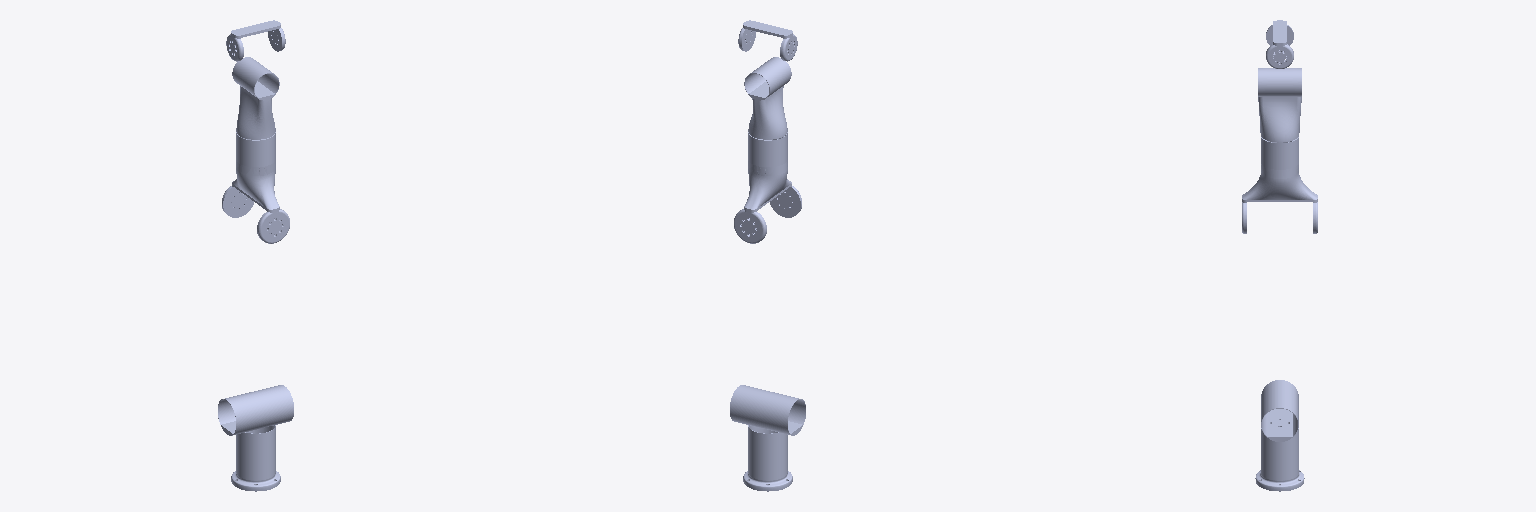
robot.urdf — dossarm_description:
<?xml version="1.0" ?>
<robot name="dossarm_description">
    <link name="world" />
    <joint name="odom_joint" type="fixed">
        <origin xyz="0 0 0" rpy="0 0 0" />
        <parent link="world" />
        <child link="base_link" />
    </joint>
    <link name="base_link">
        
<inertial>
            <mass value="0.1" />
            <origin rpy="1.5707 0 0" xyz="0 0 0" />
            <inertia ixx="0.03" ixy="0.0" ixz="0.0" iyy="0.03" iyz="0.0" izz="0.03" />
        </inertial>

        <collision>
            <origin rpy="1.5707 0 0" xyz="0 0 0" />
            <geometry>
                <mesh filename="package://dossarm_description/meshes/Motor_1_Case.stl" scale="0.001 0.001 0.001" />
                /&gt;
            </geometry>
        </collision>
        <visual>
            <origin rpy="1.5707 0 0" xyz="0 0 0" />
            <geometry>
                <mesh filename="package://dossarm_description/meshes/Motor_1_Case.stl" scale="0.001 0.001 0.001" />
            </geometry>
            <material name="">
                <color rgba="0.79216 0.81961 0.93333 1" />
            </material>
        </visual>
    </link>
    <link name="Motor_1">
        
<inertial>
            <mass value="0.1" />
            <origin rpy="1.5708 0 0" xyz="0 0 0" />
            <inertia ixx="0.03" ixy="0.0" ixz="0.0" iyy="0.03" iyz="0.0" izz="0.03" />
        </inertial>

        <collision>
            <origin rpy="1.5708 0 0" xyz="0 0 0" />
            <geometry>
                <mesh filename="package://dossarm_description/meshes/PH54_200.stl" scale="0.001 0.001 0.001" />
                /&gt;
            </geometry>
        </collision>
        <visual>
            <origin rpy="1.5708 0 0" xyz="0 0 0" />
            <geometry>
                <mesh filename="package://dossarm_description/meshes/PH54_200.stl" scale="0.001 0.001 0.001" />
            </geometry>
            <material name="">
                <color rgba="0.79216 0.81961 0.93333 1" />
            </material>
        </visual>
    </link>
    <joint name="dummyjoint_base_to_motor_1" type="fixed">
        <origin rpy="0 0 0" xyz="0 0 0.064" />
        <parent link="base_link" />
        <child link="Motor_1" />
    </joint>
    <link name="Link_1">
        
<inertial>
            <mass value="0.1" />
            <origin rpy="1.5708 0 0" xyz="0 0 0" />
            <inertia ixx="0.03" ixy="0.0" ixz="0.0" iyy="0.03" iyz="0.0" izz="0.03" />
        </inertial>

        <collision>
            <origin rpy="1.5708 0 0" xyz="0 0 0" />
            <geometry>
                <mesh filename="package://dossarm_description/meshes/Motor_2_Case.stl" scale="0.001 0.001 0.001" />
                /&gt;
            </geometry>
        </collision>
        <visual>
            <origin rpy="1.5708 0 0" xyz="0 0 0" />
            <geometry>
                <mesh filename="package://dossarm_description/meshes/Motor_2_Case.stl" scale="0.001 0.001 0.001" />
            </geometry>
            <material name="">
                <color rgba="0.79216 0.81961 0.93333 1" />
            </material>
        </visual>
    </link>
    <joint name="Joint_1" type="continuous">
        <axis xyz="0 0 1" />
        <limit effort="5" lower="-1.5707" upper="1.5707" velocity="1" />
        <origin rpy="0 0 0" xyz="0 0 0.095" />
        <parent link="Motor_1" />
        <child link="Link_1" />
    </joint>
    <link name="Motor_2">
        
<inertial>
            <mass value="0.1" />
            <origin rpy="0 0 0" xyz="0 0 0" />
            <inertia ixx="0.03" ixy="0.0" ixz="0.0" iyy="0.03" iyz="0.0" izz="0.03" />
        </inertial>

        <collision>
            <origin rpy="0 0 0" xyz="0 0 0" />
            <geometry>
                <mesh filename="package://dossarm_description/meshes/PH54_200_Bearings.stl" scale="0.001 0.001 0.001" />
                /&gt;
            </geometry>
        </collision>
        <visual>
            <origin rpy="0 0 0" xyz="0 0 0" />
            <geometry>
                <mesh filename="package://dossarm_description/meshes/PH54_200_Bearings.stl" scale="0.001 0.001 0.001" />
            </geometry>
            <material name="">
                <color rgba="0.79216 0.81961 0.93333 1" />
            </material>
        </visual>
    </link>
    <joint name="dummyjoint_Link_1_to_Motor_1" type="fixed">
        <origin rpy="0 0 1.5708" xyz="-0.00575 0 0" />
        <parent link="Link_1" />
        <child link="Motor_2" />
    </joint>
    <link name="shoulder">
        
<inertial>
            <mass value="0.1" />
            <origin rpy="0 0 0" xyz="0 0 0" />
            <inertia ixx="0.03" ixy="0.0" ixz="0.0" iyy="0.03" iyz="0.0" izz="0.03" />
        </inertial>

        <collision>
            <origin rpy="0 0 0" xyz="0 0 0" />
            <geometry>
                <mesh filename="package://dossarm_description/meshes/Shoulder_complete.stl" scale="0.001 0.001 0.001" />
                /&gt;
            </geometry>
        </collision>
        <visual>
            <origin rpy="0 0 0" xyz="0 0 0" />
            <geometry>
                <mesh filename="package://dossarm_description/meshes/Shoulder_complete.stl" scale="0.001 0.001 0.001" />
            </geometry>
            <material name="">
                <color rgba="0.79216 0.81961 0.93333 1" />
            </material>
        </visual>
    </link>
    <joint name="Joint_2" type="revolute">
        <axis xyz="1 0 0" />
        <limit effort="5" lower="-1.5707" upper="1.5707" velocity="1" />
        <origin rpy="0 0 1.5708" xyz="0 -0.00575 0" />
        <parent link="Motor_2" />
        <child link="shoulder" />
    </joint>
    <link name="Motor_3">
        
<inertial>
            <mass value="0.1" />
            <origin rpy="0 0 0" xyz="0 0 0" />
            <inertia ixx="0.03" ixy="0.0" ixz="0.0" iyy="0.03" iyz="0.0" izz="0.03" />
        </inertial>

        <collision>
            <origin rpy="0 0 0" xyz="0 0 0" />
            <geometry>
                <mesh filename="package://dossarm_description/meshes/PH54_200_Bearings.stl" scale="0.001 0.001 0.001" />
                /&gt;
            </geometry>
        </collision>
        <visual>
            <origin rpy="0 0 0" xyz="0 0 0" />
            <geometry>
                <mesh filename="package://dossarm_description/meshes/PH54_200_Bearings.stl" scale="0.001 0.001 0.001" />
            </geometry>
            <material name="">
                <color rgba="0.79216 0.81961 0.93333 1" />
            </material>
        </visual>
    </link>
    <joint name="dummyJoint_Motor_3_to_UpperArm" type="fixed">
        <origin rpy="0 0 0" xyz="0 0.00575 0.1" />
        <parent link="shoulder" />
        <child link="Motor_3" />
    </joint>
    <link name="upperarm">
        
<inertial>
            <mass value="0.1" />
            <origin rpy="0 0 0" xyz="0 0 0" />
            <inertia ixx="0.03" ixy="0.0" ixz="0.0" iyy="0.03" iyz="0.0" izz="0.03" />
        </inertial>

        <collision>
            <origin rpy="0 0 0" xyz="0 0 0" />
            <geometry>
                <mesh filename="package://dossarm_description/meshes/upperarm_complete.stl" scale="0.001 0.001 0.001" />
                /&gt;
            </geometry>
        </collision>
        <visual>
            <origin rpy="0 0 0" xyz="0 0 0" />
            <geometry>
                <mesh filename="package://dossarm_description/meshes/upperarm_complete.stl" scale="0.001 0.001 0.001" />
            </geometry>
            <material name="">
                <color rgba="0.79216 0.81961 0.93333 1" />
            </material>
        </visual>
    </link>
    <joint name="Joint_3" type="revolute">
        <axis xyz="1 0 0" />
        <limit effort="5" lower="-1.5707" upper="1.5707" velocity="1" />
        <origin rpy="0 0 1.5708" xyz="0 -0.00575 0" />
        <parent link="Motor_3" />
        <child link="upperarm" />
    </joint>
    <link name="Motor_4">
        
<inertial>
            <mass value="0.1" />
            <origin rpy="0 0 0" xyz="0 0 0" />
            <inertia ixx="0.03" ixy="0.0" ixz="0.0" iyy="0.03" iyz="0.0" izz="0.03" />
        </inertial>

        <collision>
            <origin rpy="0 0 0" xyz="0 0 0" />
            <geometry>
                <mesh filename="package://dossarm_description/meshes/PH54_200_Bearings.stl" scale="0.001 0.001 0.001" />
                /&gt;
            </geometry>
        </collision>
        <visual>
            <origin rpy="0 0 0" xyz="0 0 0" />
            <geometry>
                <mesh filename="package://dossarm_description/meshes/PH54_200_Bearings.stl" scale="0.001 0.001 0.001" />
            </geometry>
            <material name="">
                <color rgba="0.79216 0.81961 0.93333 1" />
            </material>
        </visual>
    </link>
    <joint name="dummyJoint_Motor_4_to_forearm" type="fixed">
        <origin rpy="0 0 1.5708" xyz="-0.00575 0 0.343041 " />
        <parent link="upperarm" />
        <child link="Motor_4" />
    </joint>
    <link name="forearm_upper">
        
<inertial>
            <mass value="0.1" />
            <origin rpy="0 0 0" xyz="0 0 0" />
            <inertia ixx="0.03" ixy="0.0" ixz="0.0" iyy="0.03" iyz="0.0" izz="0.03" />
        </inertial>

        <collision>
            <origin rpy="0 0 0" xyz="0 0 0" />
            <geometry>
                <mesh filename="package://dossarm_description/meshes/forearm_upper_complete.stl" scale="0.001 0.001 0.001" />
                /&gt;
            </geometry>
        </collision>
        <visual>
            <origin rpy="0 0 0" xyz="0 0 0" />
            <geometry>
                <mesh filename="package://dossarm_description/meshes/forearm_upper_complete.stl" scale="0.001 0.001 0.001" />
            </geometry>
            <material name="">
                <color rgba="0.79216 0.81961 0.93333 1" />
            </material>
        </visual>
    </link>
    <joint name="Joint_4" type="revolute">
        <axis xyz="1 0 0" />
        <limit effort="5" lower="-1.5707" upper="1.5707" velocity="1" />
        <origin rpy="0 0 1.5708" xyz="0   -0.00575  0 " />
        <parent link="Motor_4" />
        <child link="forearm_upper" />
    </joint>
    <link name="Motor_5">
        
<inertial>
            <mass value="0.1" />
            <origin rpy="0 0 0" xyz="0 0 0" />
            <inertia ixx="0.03" ixy="0.0" ixz="0.0" iyy="0.03" iyz="0.0" izz="0.03" />
        </inertial>

        <collision>
            <origin rpy="0 0 0" xyz="0 0 0" />
            <geometry>
                <mesh filename="package://dossarm_description/meshes/H54P-100_M54P-040.stl" scale="0.001 0.001 0.001" />
                /&gt;
            </geometry>
        </collision>
        <visual>
            <origin rpy="0 0 0" xyz="0 0 0" />
            <geometry>
                <mesh filename="package://dossarm_description/meshes/H54P-100_M54P-040.stl" scale="0.001 0.001 0.001" />
            </geometry>
            <material name="">
                <color rgba="0.79216 0.81961 0.93333 1" />
            </material>
        </visual>
    </link>
    <joint name="dummyJoint_forearm_upper_to_Motor_5" type="fixed">
        <origin rpy="1.5708 0 0 " xyz="0  0  0.1775" />
        <parent link="forearm_upper" />
        <child link="Motor_5" />
    </joint>
    <link name="forearm_lower">
        
<inertial>
            <mass value="0.1" />
            <origin rpy="0 0 0" xyz="0 0 0.124233" />
            <inertia ixx="0.03" ixy="0.0" ixz="0.0" iyy="0.03" iyz="0.0" izz="0.03" />
        </inertial>

        <collision>
            <origin rpy="0 0 0" xyz="0 0 0.124233" />
            <geometry>
                <mesh filename="package://dossarm_description/meshes/forearm_lower_complete.stl" scale="0.001 0.001 0.001" />
                /&gt;
            </geometry>
        </collision>
        <visual>
            <origin rpy="0 0 0" xyz="0 0 0.124233" />
            <geometry>
                <mesh filename="package://dossarm_description/meshes/forearm_lower_complete.stl" scale="0.001 0.001 0.001" />
            </geometry>
            <material name="">
                <color rgba="0.79216 0.81961 0.93333 1" />
            </material>
        </visual>
    </link>
    <joint name="Joint_5" type="revolute">
        <axis xyz="0 0 1" />
        <limit effort="5" lower="-1.5707" upper="1.5707" velocity="1" />
        <origin rpy="-1.5708 0 0 " xyz="0  0 0" />
        <parent link="Motor_5" />
        <child link="forearm_lower" />
    </joint>
    <link name="Motor_6">
        
<inertial>
            <mass value="0.1" />
            <origin rpy="0 0 0" xyz="0 0 0" />
            <inertia ixx="0.03" ixy="0.0" ixz="0.0" iyy="0.03" iyz="0.0" izz="0.03" />
        </inertial>

        <collision>
            <origin rpy="0 0 0" xyz="0 0 0" />
            <geometry>
                <mesh filename="package://dossarm_description/meshes/PH42-020_Bearings.stl" scale="0.001 0.001 0.001" />
                /&gt;
            </geometry>
        </collision>
        <visual>
            <origin rpy="0 0 0" xyz="0 0 0" />
            <geometry>
                <mesh filename="package://dossarm_description/meshes/PH42-020_Bearings.stl" scale="0.001 0.001 0.001" />
            </geometry>
            <material name="">
                <color rgba="0.79216 0.81961 0.93333 1" />
            </material>
        </visual>
    </link>
    <joint name="dummyJoint_Motor_6_Wrist_Connection" type="fixed">
        <origin rpy="0 1.5708  0 " xyz="0.039 0 0.124233" />
        <parent link="forearm_lower" />
        <child link="Motor_6" />
    </joint>
    <link name="wrist">
        
<inertial>
            <mass value="0.1" />
            <origin rpy="0 0 0" xyz="0 0 0" />
            <inertia ixx="0.03" ixy="0.0" ixz="0.0" iyy="0.03" iyz="0.0" izz="0.03" />
        </inertial>

        <collision>
            <origin rpy="0 0 0" xyz="0 0 0" />
            <geometry>
                <mesh filename="package://dossarm_description/meshes/wrist_complete.stl" scale="0.001 0.001 0.001" />
                /&gt;
            </geometry>
        </collision>
        <visual>
            <origin rpy="0 0 0" xyz="0 0 0" />
            <geometry>
                <mesh filename="package://dossarm_description/meshes/wrist_complete.stl" scale="0.001 0.001 0.001" />
            </geometry>
            <material name="">
                <color rgba="0.79216 0.81961 0.93333 1" />
            </material>
        </visual>
    </link>
    <joint name="Joint_6" type="revolute">
        <axis xyz="0 1 0" />
        <limit effort="5" lower="-1.5707" upper="1.5707" velocity="1" />
        <origin rpy="1.5708 0 -1.5708" xyz="0 0 -0.039" />
        <parent link="Motor_6" />
        <child link="wrist" />
    </joint>
    <link name="Motor_7">
        
<inertial>
            <mass value="0.1" />
            <origin rpy="0 0 0" xyz="0 0 0" />
            <inertia ixx="0.03" ixy="0.0" ixz="0.0" iyy="0.03" iyz="0.0" izz="0.03" />
        </inertial>

        <collision>
            <origin rpy="0 0 0" xyz="0 0 0" />
            <geometry>
                <mesh filename="package://dossarm_description/meshes/PH42-020_Bearings.stl" scale="0.001 0.001 0.001" />
                /&gt;
            </geometry>
        </collision>
        <visual>
            <origin rpy="0 0 0" xyz="0 0 0" />
            <geometry>
                <mesh filename="package://dossarm_description/meshes/PH42-020_Bearings.stl" scale="0.001 0.001 0.001" />
            </geometry>
            <material name="">
                <color rgba="0.79216 0.81961 0.93333 1" />
            </material>
        </visual>
    </link>
    <joint name="dummyJoint_Wrist_to_Motor_7" type="fixed">
        <origin rpy="1.5708 0 1.5708" xyz="0.039 0 0.082" />
        <parent link="wrist" />
        <child link="Motor_7" />
    </joint>
    <link name="arm_ph42">
        
<inertial>
            <mass value="0.1" />
            <origin rpy="0 0 0" xyz="0 0 0" />
            <inertia ixx="0.03" ixy="0.0" ixz="0.0" iyy="0.03" iyz="0.0" izz="0.03" />
        </inertial>

        <collision>
            <origin rpy="0 0 0" xyz="0 0 0" />
            <geometry>
                <mesh filename="package://dossarm_description/meshes/Arm_PH42.stl" scale="0.001 0.001 0.001" />
                /&gt;
            </geometry>
        </collision>
        <visual>
            <origin rpy="0 0 0" xyz="0 0 0" />
            <geometry>
                <mesh filename="package://dossarm_description/meshes/Arm_PH42.stl" scale="0.001 0.001 0.001" />
            </geometry>
            <material name="">
                <color rgba="0.79216 0.81961 0.93333 1" />
            </material>
        </visual>
    </link>
    <joint name="Joint_7" type="revolute">
        <axis xyz="1 0 0" />
        <limit effort="5" lower="-1.5707" upper="1.5707" velocity="1" />
        <origin rpy="0 1.5708 0" xyz="0 0 -0.039" />
        <parent link="Motor_7" />
        <child link="arm_ph42" />
    </joint>
    
<transmission name="trans_Joint_1">
        <type>transmission_interface/SimpleTransmission</type>
        <joint name="Joint_1">
            <hardwareInterface>hardware_interface/PositionJointInterface</hardwareInterface>
        </joint>
        <actuator name="Joint_1_motor">
            <hardwareInterface>hardware_interface/PositionJointInterface</hardwareInterface>
            <mechanicalReduction>1</mechanicalReduction>
        </actuator>
    </transmission>
    <transmission name="trans_Joint_2">
        <type>transmission_interface/SimpleTransmission</type>
        <joint name="Joint_2">
            <hardwareInterface>hardware_interface/PositionJointInterface</hardwareInterface>
        </joint>
        <actuator name="Joint_2_motor">
            <hardwareInterface>hardware_interface/PositionJointInterface</hardwareInterface>
            <mechanicalReduction>1</mechanicalReduction>
        </actuator>
    </transmission>
    <transmission name="trans_Joint_3">
        <type>transmission_interface/SimpleTransmission</type>
        <joint name="Joint_3">
            <hardwareInterface>hardware_interface/PositionJointInterface</hardwareInterface>
        </joint>
        <actuator name="Joint_3_motor">
            <hardwareInterface>hardware_interface/PositionJointInterface</hardwareInterface>
            <mechanicalReduction>1</mechanicalReduction>
        </actuator>
    </transmission>
    <transmission name="trans_Joint_4">
        <type>transmission_interface/SimpleTransmission</type>
        <joint name="Joint_4">
            <hardwareInterface>hardware_interface/PositionJointInterface</hardwareInterface>
        </joint>
        <actuator name="Joint_4_motor">
            <hardwareInterface>hardware_interface/PositionJointInterface</hardwareInterface>
            <mechanicalReduction>1</mechanicalReduction>
        </actuator>
    </transmission>
    <transmission name="trans_Joint_5">
        <type>transmission_interface/SimpleTransmission</type>
        <joint name="Joint_5">
            <hardwareInterface>hardware_interface/PositionJointInterface</hardwareInterface>
        </joint>
        <actuator name="Joint_5_motor">
            <hardwareInterface>hardware_interface/PositionJointInterface</hardwareInterface>
            <mechanicalReduction>1</mechanicalReduction>
        </actuator>
    </transmission>
    <transmission name="trans_Joint_6">
        <type>transmission_interface/SimpleTransmission</type>
        <joint name="Joint_6">
            <hardwareInterface>hardware_interface/PositionJointInterface</hardwareInterface>
        </joint>
        <actuator name="Joint_6_motor">
            <hardwareInterface>hardware_interface/PositionJointInterface</hardwareInterface>
            <mechanicalReduction>1</mechanicalReduction>
        </actuator>
    </transmission>
    <transmission name="trans_Joint_7">
        <type>transmission_interface/SimpleTransmission</type>
        <joint name="Joint_7">
            <hardwareInterface>hardware_interface/PositionJointInterface</hardwareInterface>
        </joint>
        <actuator name="Joint_7_motor">
            <hardwareInterface>hardware_interface/PositionJointInterface</hardwareInterface>
            <mechanicalReduction>1</mechanicalReduction>
        </actuator>
    </transmission>
    <gazebo>
        <plugin name="gazebo_ros_control" filename="libgazebo_ros_control.so">
            <robotNamespace>/</robotNamespace>
        </plugin>
    </gazebo>
</robot>

--- Render facts (derived) ---
3 views of the same robot in one strip: view 1: azimuth 30°, elevation 25°; view 2: azimuth 150°, elevation 25°; view 3: azimuth 270°, elevation 25° (orthographic).
Robot: dossarm_description — 16 links, 15 joints (6 revolute, 1 continuous, 8 fixed); root link world; default pose: every joint at zero.
Links seen in each view (by area): view 1: forearm_upper, forearm_lower, Link_1, base_link, arm_ph42; view 2: forearm_upper, forearm_lower, Link_1, base_link, arm_ph42; view 3: forearm_upper, forearm_lower, base_link, Link_1, arm_ph42.
Link boxes in pixels (box(x1,y1,x2,y2)): forearm_upper: box(222, 132, 289, 243); forearm_lower: box(232, 57, 279, 139); Link_1: box(218, 385, 293, 435); base_link: box(231, 425, 280, 491); arm_ph42: box(226, 20, 285, 61); forearm_upper: box(734, 132, 801, 243); forearm_lower: box(744, 57, 791, 139); Link_1: box(730, 385, 805, 435); base_link: box(743, 425, 792, 491); arm_ph42: box(738, 20, 797, 61); forearm_upper: box(1242, 137, 1317, 233); forearm_lower: box(1258, 68, 1301, 142); base_link: box(1255, 428, 1304, 491); Link_1: box(1261, 380, 1298, 441); arm_ph42: box(1266, 20, 1293, 68).
Bounding box of the posed robot: 0.1365 × 0.1575 × 1.02 m (x, y, z).
5 mesh visuals loaded from 12 distinct referenced files (5 binary STL); not drawn: 10 (reference not matched to a file when rendering).